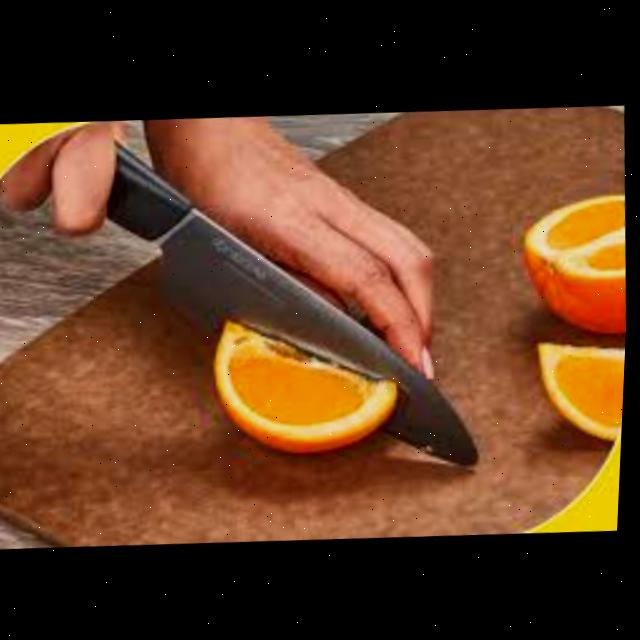Knife: (93, 116, 493, 482)
